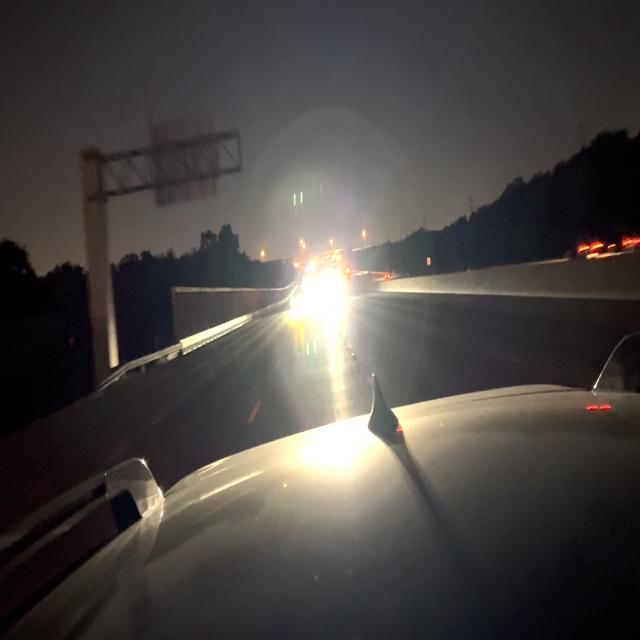back-of-sign: (152, 112, 218, 204)
